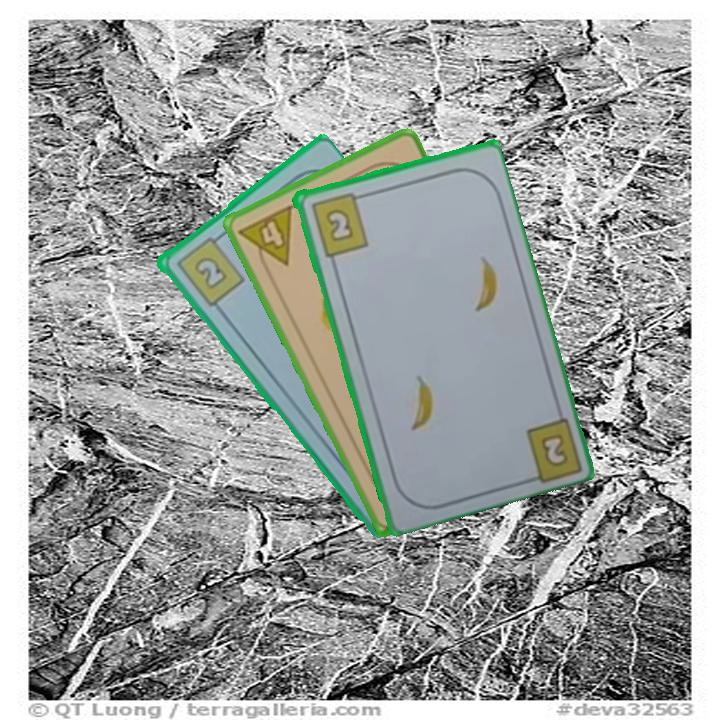2b: (171, 230, 247, 309), (307, 188, 371, 259), (536, 429, 568, 467)
4p: (235, 201, 296, 277)
